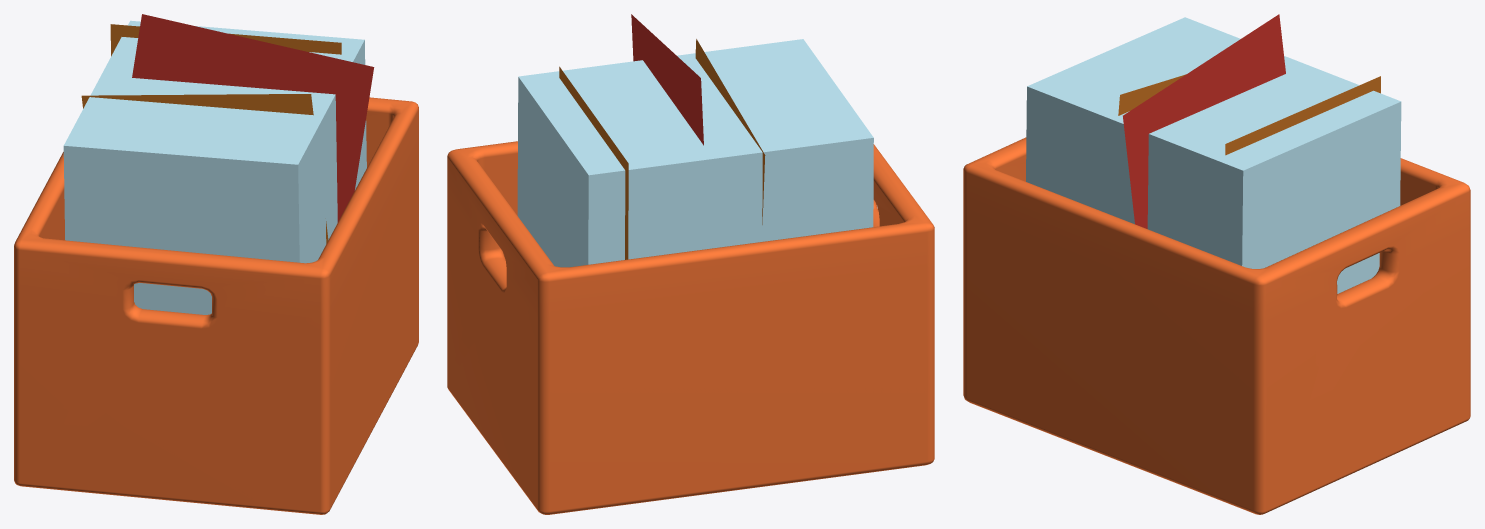
The model's file is Paper_box.fbx.
3 views of the same model, side by side, from view 1: azimuth 30°, elevation 25°; view 2: azimuth 150°, elevation 25°; view 3: azimuth 270°, elevation 25° (orthographic). The views are drawn at different scales.
Parts seen in each view (by area): view 1: Cube.136.frozen, c.001, c.018, c.003, c.002; view 2: Cube.136.frozen, c.001, c.018, c.002, c.003; view 3: Cube.136.frozen, c.001, c.018, c.002, c.003.
Boxes of the visible parts, x1,y1,x2,y2 form: Cube.136.frozen: (14, 97, 418, 514); c.001: (63, 20, 366, 314); c.018: (132, 14, 374, 222); c.003: (81, 94, 328, 243); c.002: (110, 24, 341, 56); Cube.136.frozen: (447, 141, 934, 514); c.001: (517, 39, 873, 267); c.018: (631, 14, 703, 145); c.002: (559, 66, 628, 259); c.003: (695, 39, 765, 224); Cube.136.frozen: (963, 137, 1470, 514); c.001: (1026, 17, 1401, 293); c.018: (1123, 14, 1285, 228); c.002: (1225, 76, 1380, 155); c.003: (1118, 74, 1185, 115).
Bounding box in the file's own units: 64.82 × 53.87 × 65.56.
